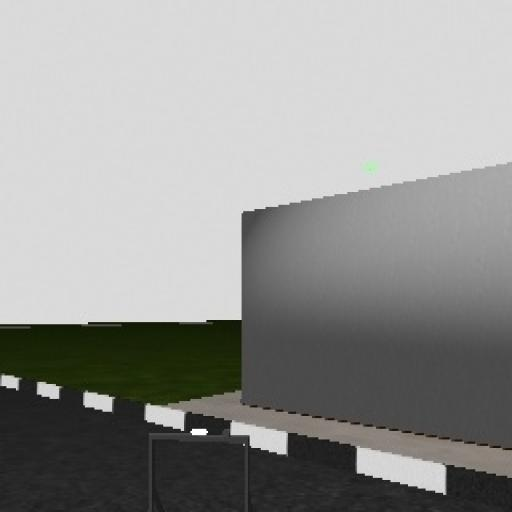huskya200: (132, 422, 258, 512)
